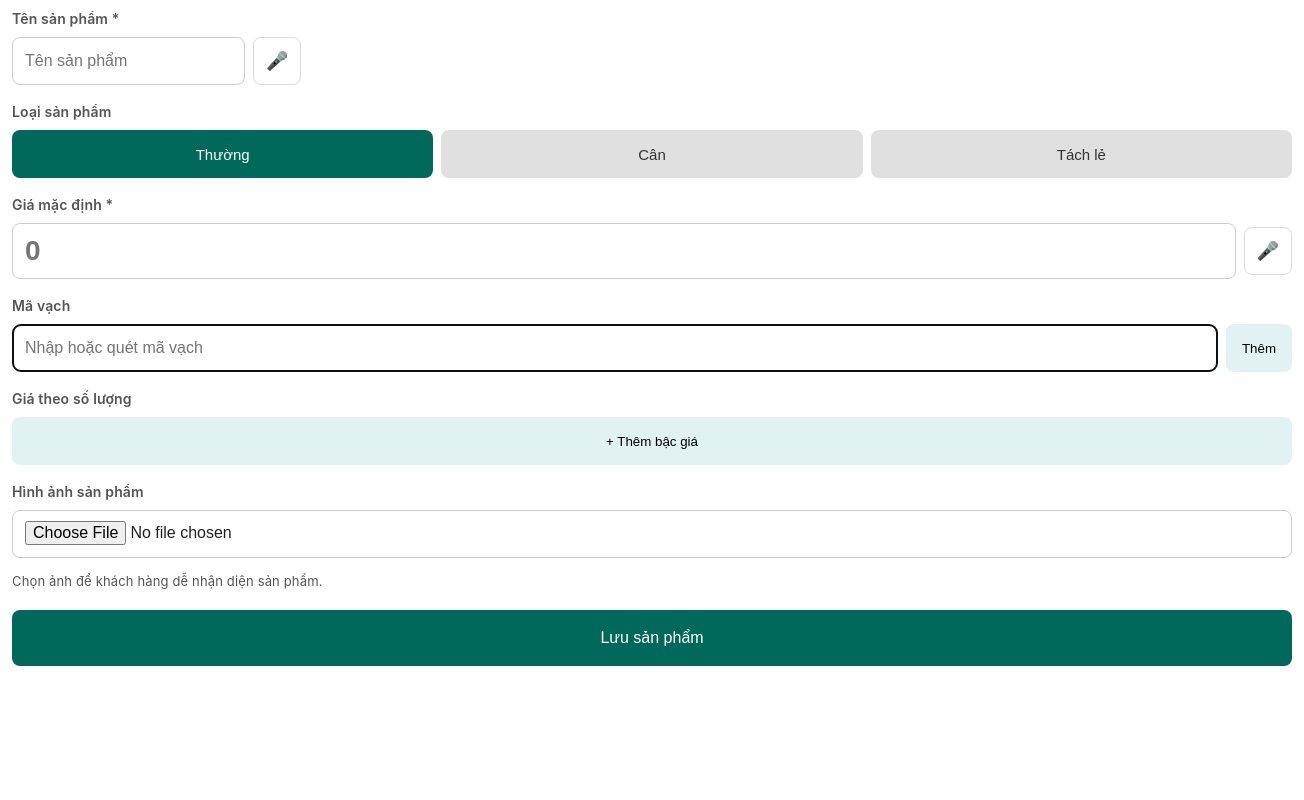
Test: ProductForm › shows error when price is 0
This screenshot has width=1304, height=800.
Type "Test" into the field labelled "Tên sản phẩm". click: coordinates (128, 61)
box: [12,37,245,85]
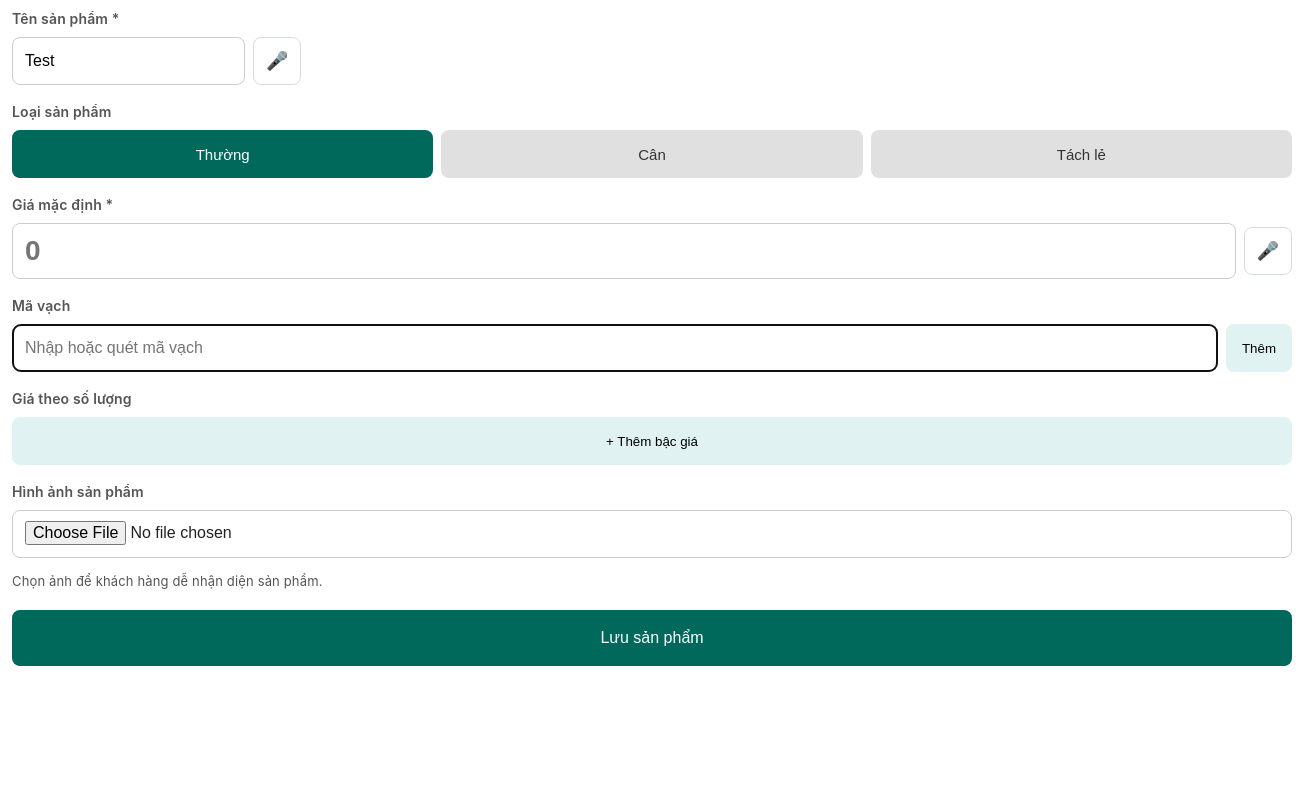
Click the button "Lưu sản phẩm". click: coordinates (652, 638)
box: [12,610,1292,666]
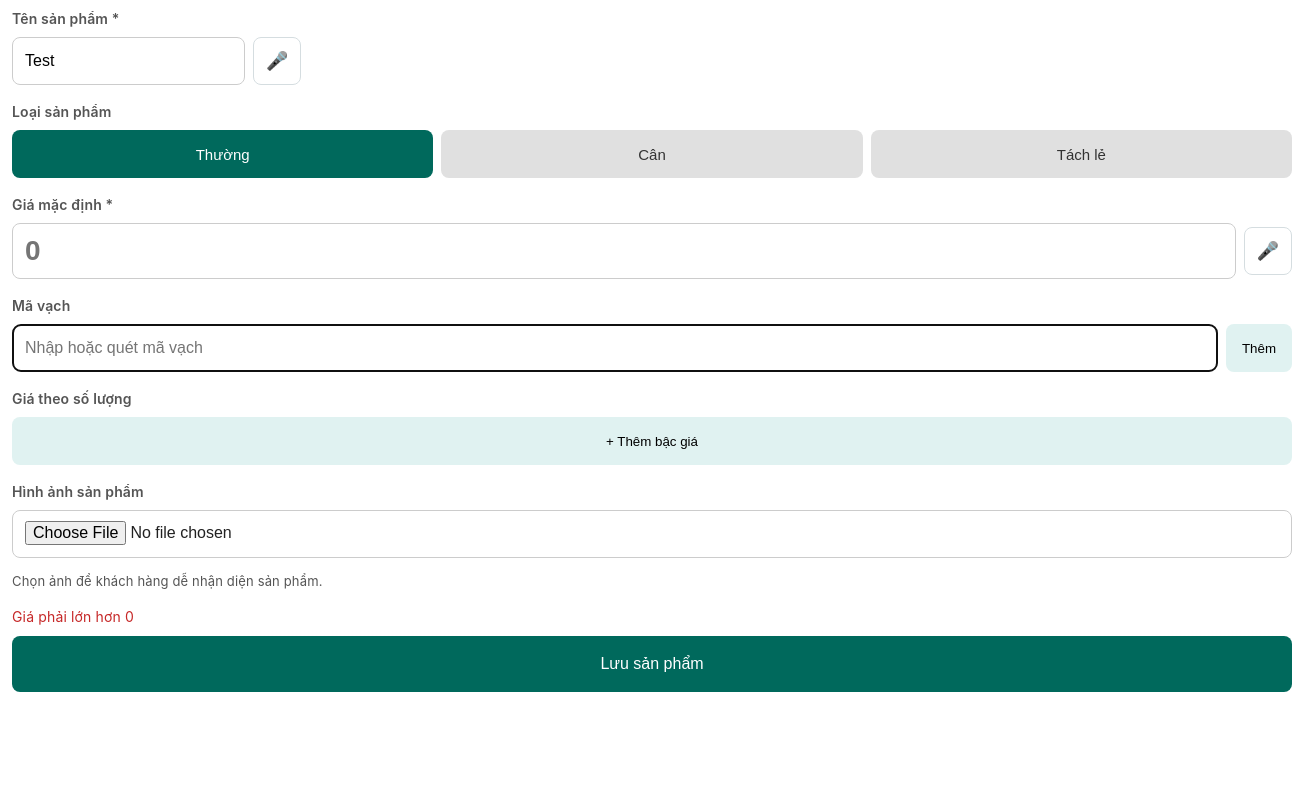
Expected: the message reads "Giá phải lớn hơn 0", [12,608,134,624]
